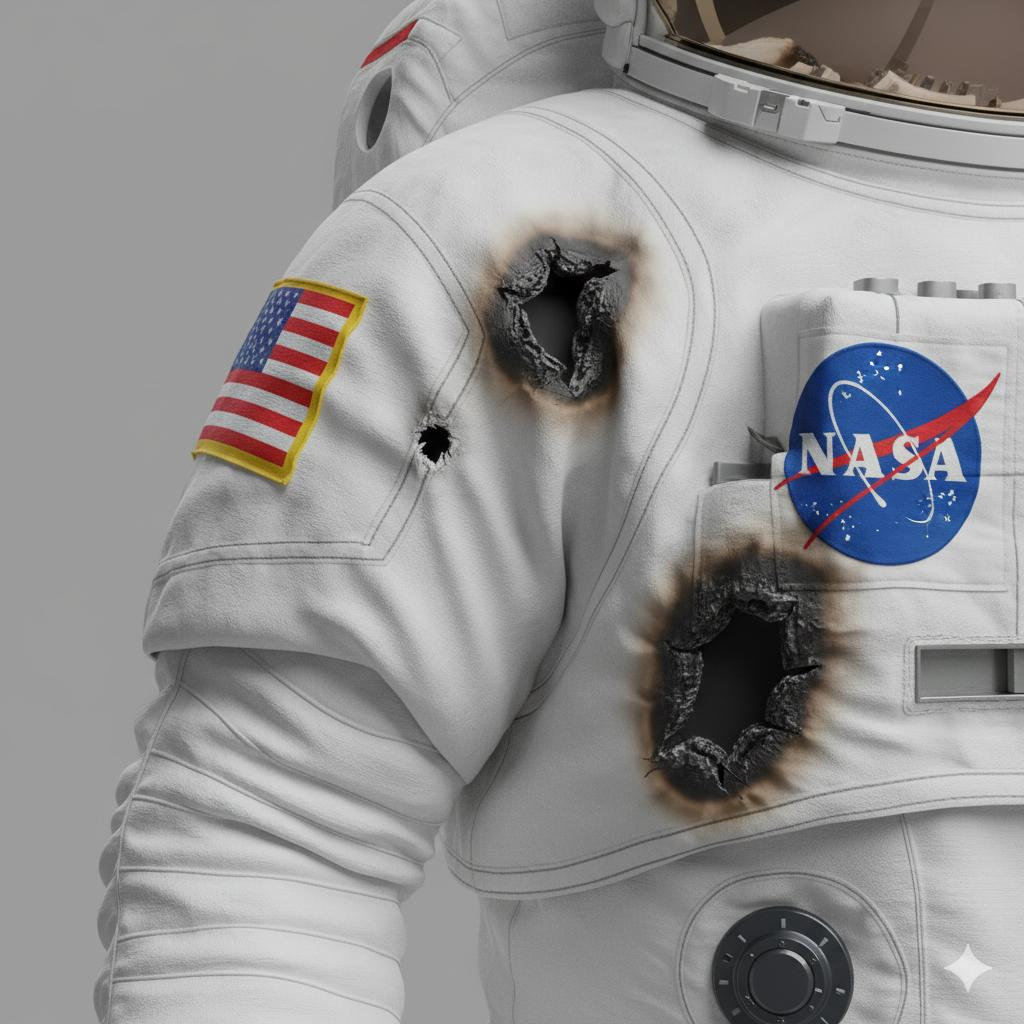burn: (595, 523, 891, 839), (471, 196, 636, 425)
puncture: (385, 418, 481, 469)
